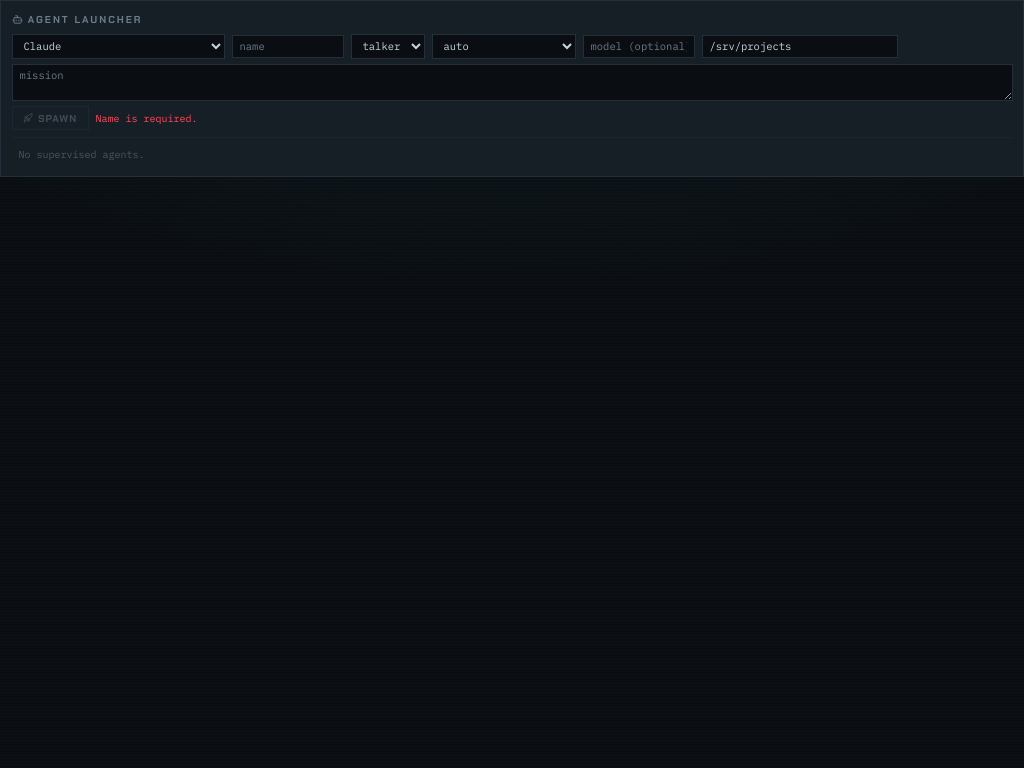
Test case: AgentLauncher — working directory field › resets the field to the hub default after a successful spawn
In the field named "Agent name": (288, 46) [232,34,344,58], type "alpha"
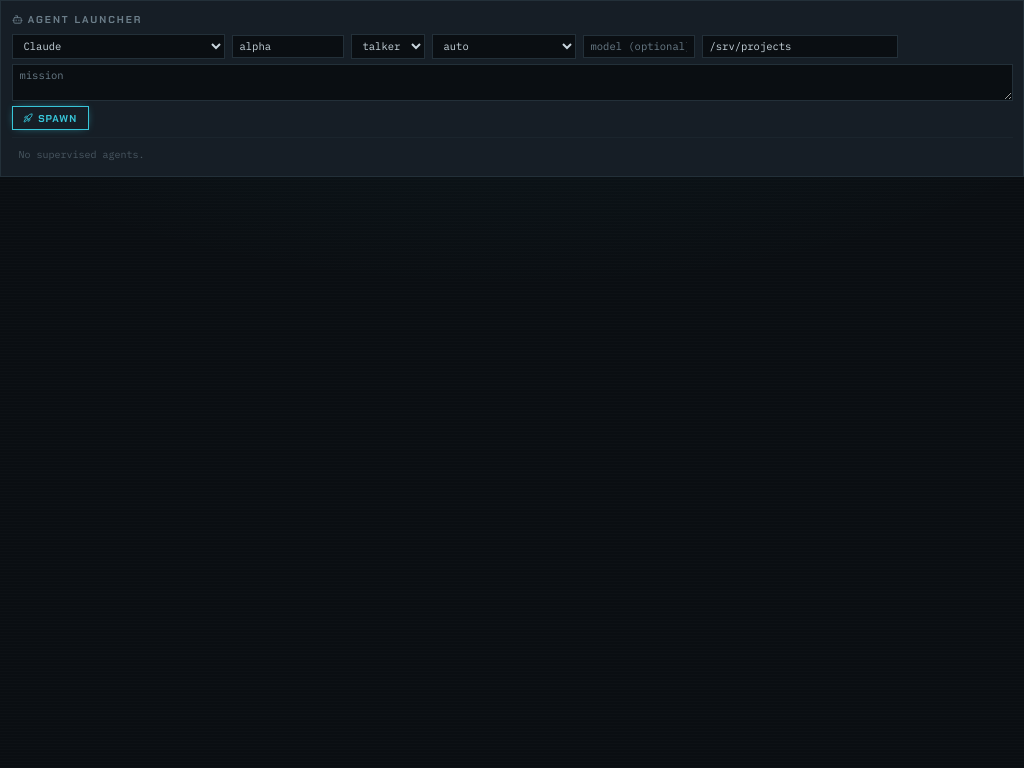
Replace the text in the field named "Agent working directory" with "/srv/elsewhere": (800, 46) [702,34,898,58]
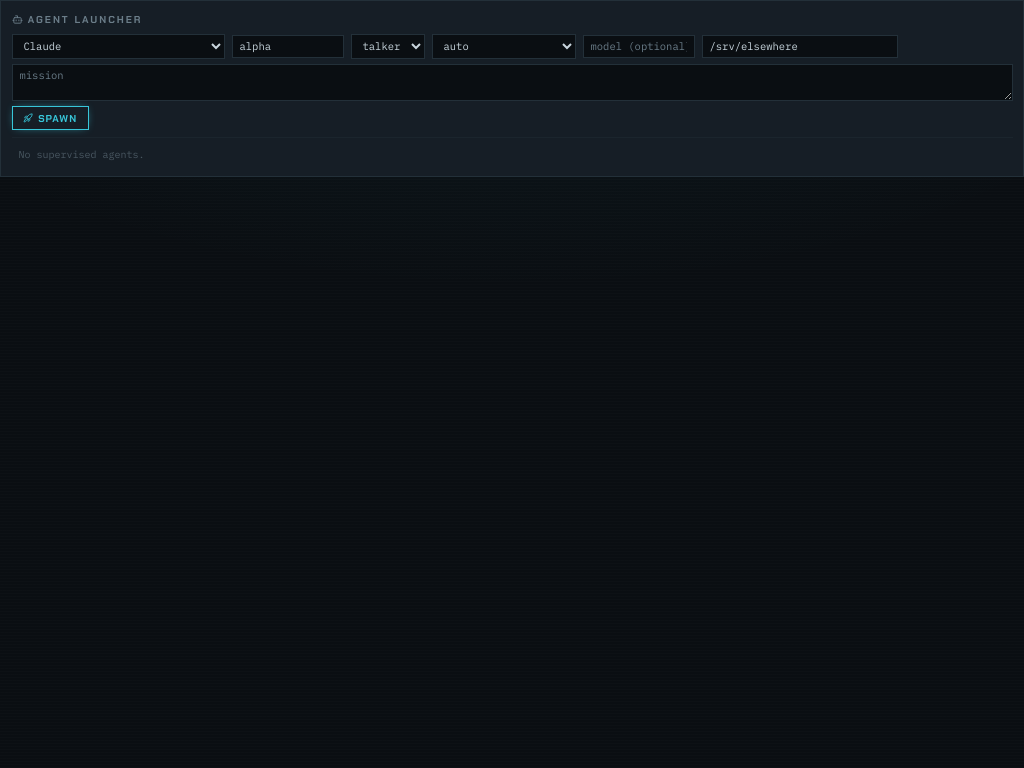
Click the button with aria-label "Spawn agent": (50, 118) [12,106,89,130]
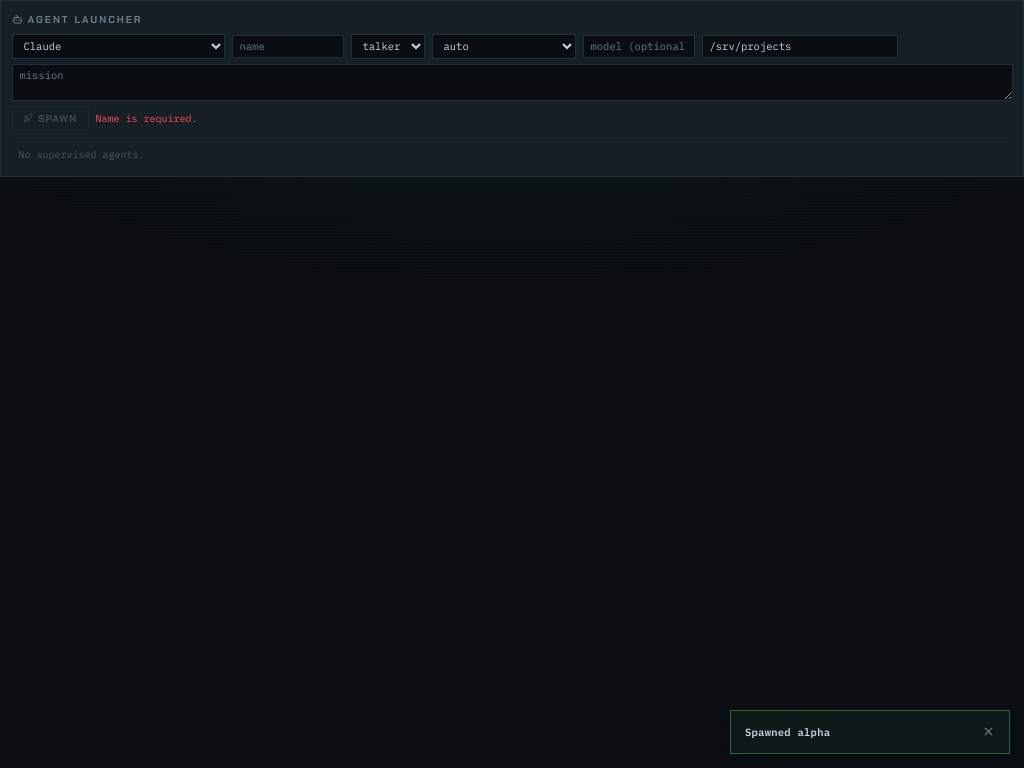
Expected: the field named "Agent working directory" holds "/srv/projects", [702,34,898,58]
